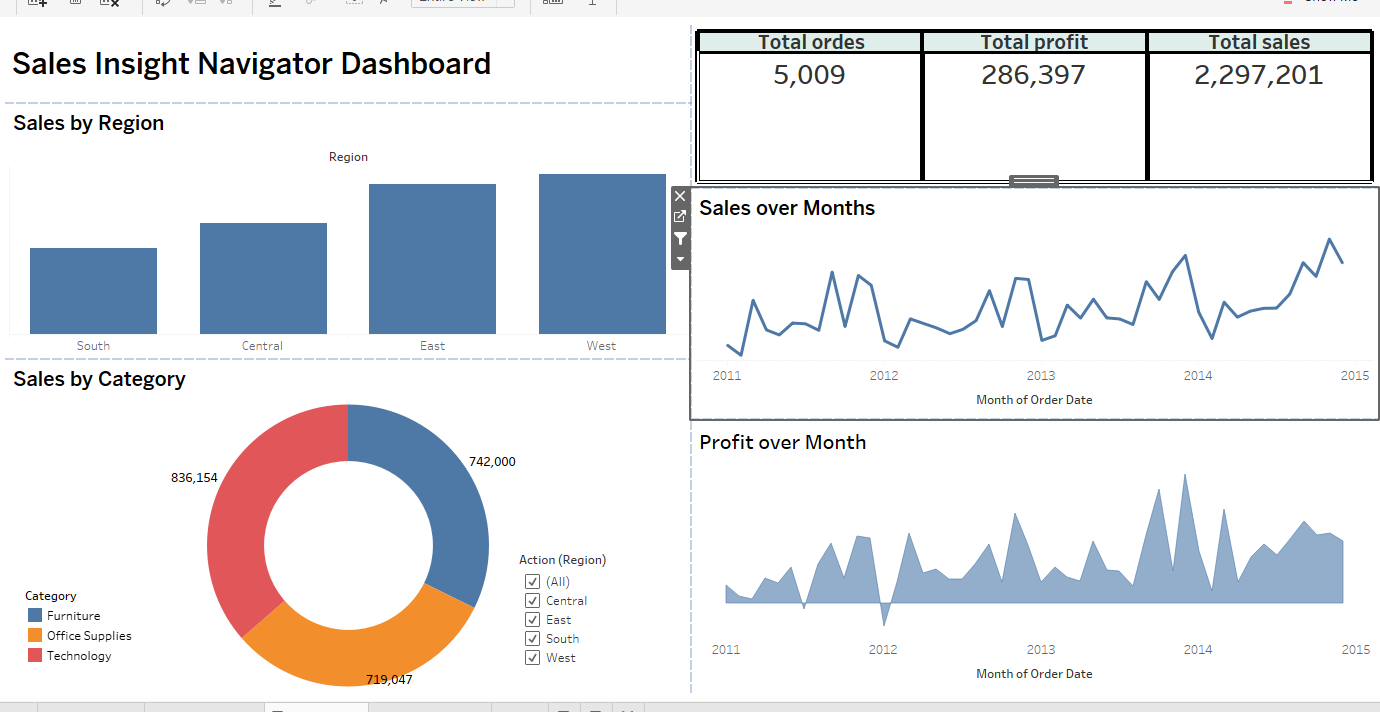

The page's visual inventory and layout, read from the dashboard file:
{"tool":"tableau","page":{"name":"Dashboard 1","canvas":[1000,1000],"units":"permille","ordinal":0},"visuals":[{"type":"text","box":[5.8,11.7,494.2,114]},{"type":"worksheet","title":"Sheet 5","mark":"Text","box":[499.9,11.7,494.3,238.3]},{"type":"worksheet","title":" Sales by Region","mark":"Automatic","rows":["Sales"],"cols":["Region"],"box":[5.8,125.7,494.2,374.3]},{"type":"worksheet","title":"Sales over Months","mark":"Automatic","rows":["Sales"],"cols":["Order Date"],"box":[499.9,250,494.3,337.7]},{"type":"worksheet","title":" Sales by Category","mark":"Pie","cols":["Calculation_699465377666170888","Calculation_699465377666170888"],"box":[5.8,500,494.2,488.3]},{"type":"worksheet","title":"Profit  over Months","mark":"Area","rows":["Profit"],"cols":["Order Date"],"box":[499.9,587.7,494.3,400.6]},{"type":"filter","title":"Sales over Months","param":"[federated.0rxc0xe1wtg4ed1244upg0m0rnzp].[Action (Region)]","box":[375.8,780.7,114.5,185.7]},{"type":"legend","title":" Sales by Category","param":"[federated.0rxc0xe1wtg4ed1244upg0m0rnzp].[none:Category:nk]","box":[20.2,833.3,97.9,114]}]}

Visuals, with their boxes on the dashboard's canvas, which has no fixed pixel size, in thousandths of its width and height (x1, y1, x2, y2). These are canvas units, not pixel positions in the 1380x712 screenshot, which may show the page scaled, cropped or inside an application window:
text: bbox=(6, 12, 500, 126)
"Sheet 5" worksheet (Text marks): bbox=(500, 12, 994, 250)
" Sales by Region" worksheet: bbox=(6, 126, 500, 500)
"Sales over Months" worksheet: bbox=(500, 250, 994, 588)
" Sales by Category" worksheet (Pie marks): bbox=(6, 500, 500, 988)
"Profit  over Months" worksheet (Area marks): bbox=(500, 588, 994, 988)
"Sales over Months" filter: bbox=(376, 781, 490, 966)
" Sales by Category" legend: bbox=(20, 833, 118, 947)
